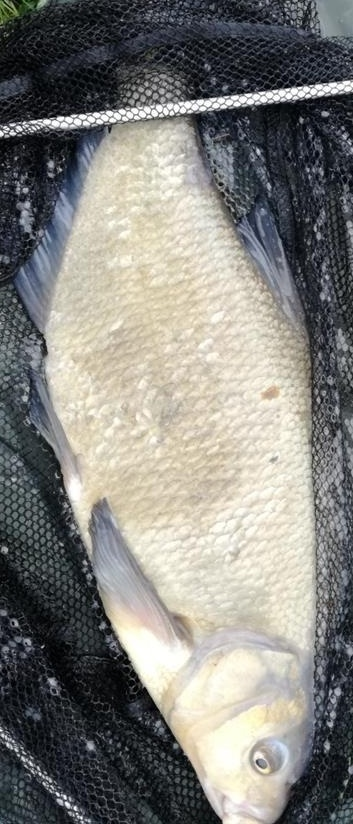Abramis brama: (20, 20, 333, 824)
